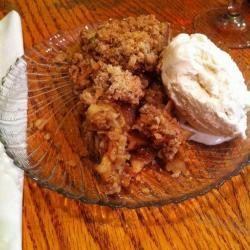apple_pie: (77, 18, 186, 193)
icecream: (160, 30, 250, 148)
